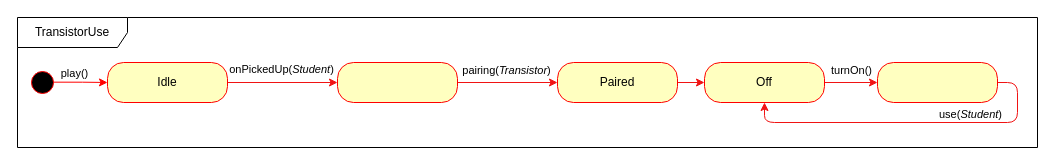
Some shapes in this 1055 by 165 pixel diagram are drawn without their labels. The shapes that lost their labels are listed below. From the top down, each one's centre as x and y in pixels, then its label:
At (x=397, y=82): "Unpaired".
At (x=937, y=82): "On".
